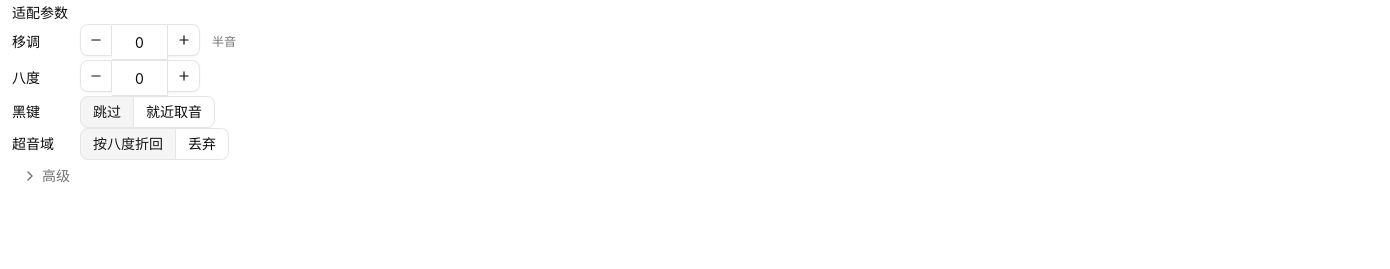
Test: AdaptOptionsPanel（音高类） › 显示小节标题与移调、八度、黑键、超音域，展开高级后显示复音上限与和弦窗口
The width and height of the screenshot is (1390, 269).
Expected: the text "适配参数" is shown, [12,4,68,21]
Expected: the text "移调" is shown, [12,33,40,50]
Click the button "高级" at (46, 176), box [12,160,80,192]
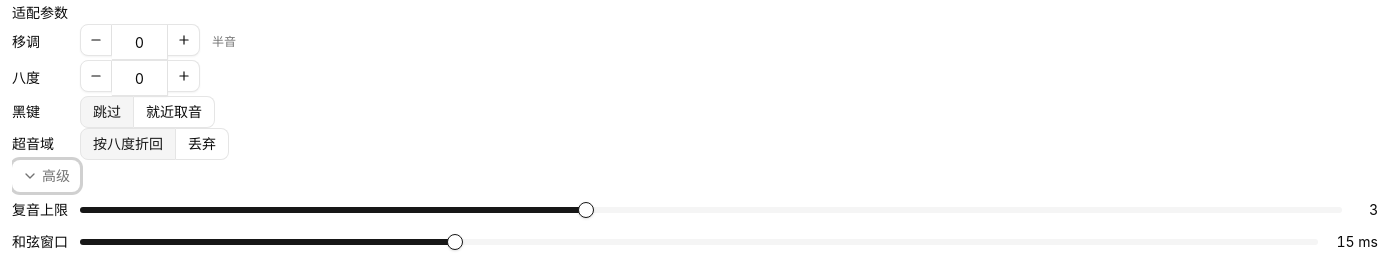
Expected: the text "复音上限" is shown, [12,200,68,220]
Expected: the text "和弦窗口" is shown, [12,232,68,252]
